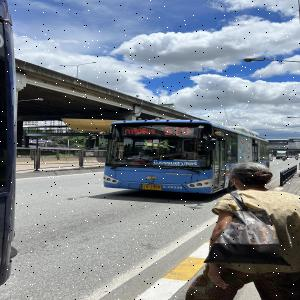BMTA-bus: (103, 119, 270, 195)
Bus Line Number: (162, 126, 192, 136)
Bus Side Number: (161, 184, 184, 189)
Destination Sign: (150, 159, 200, 168)
